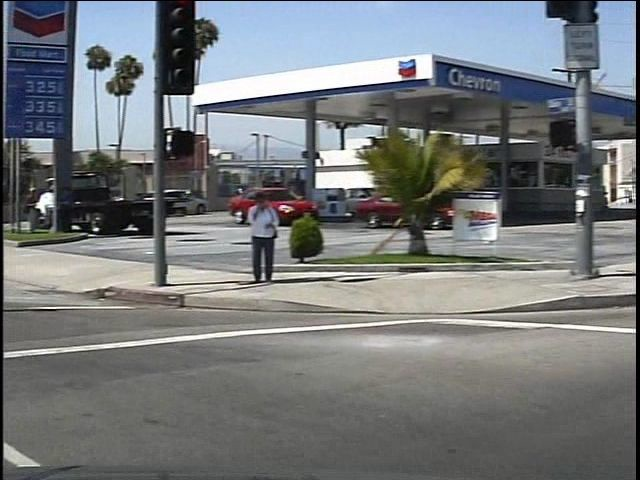person: (236, 189, 273, 288)
